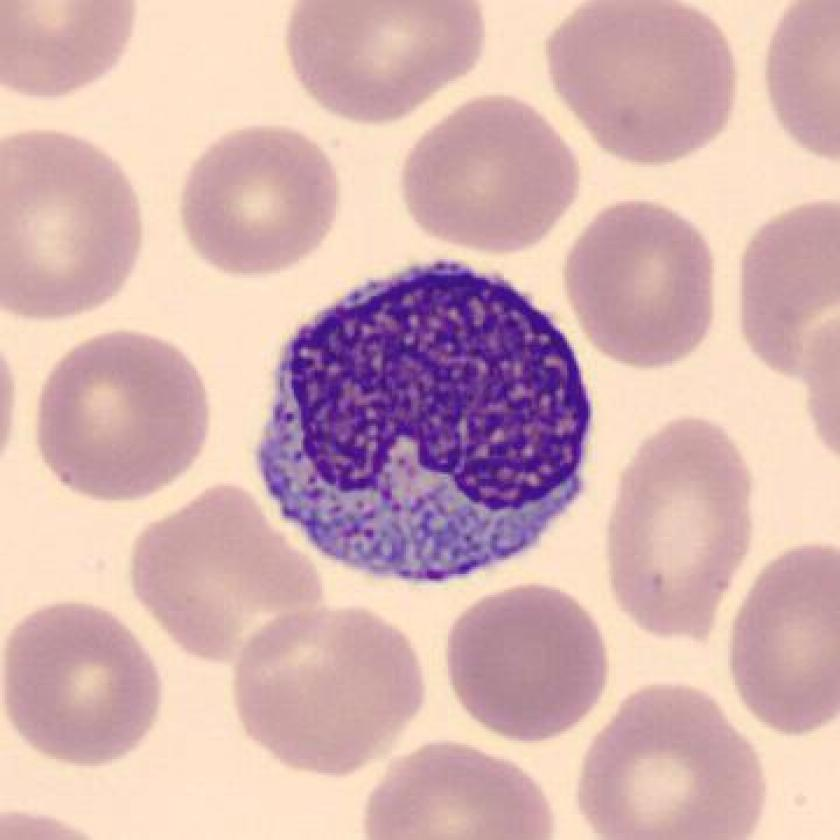monocyte: (237, 239, 612, 605)
